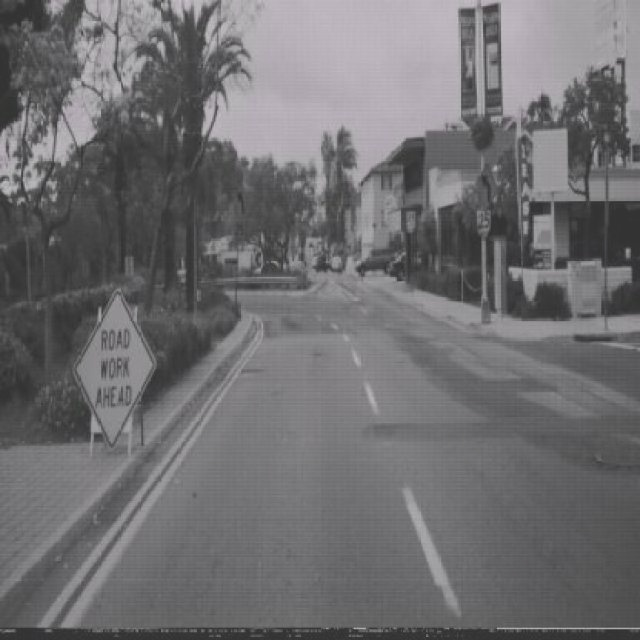curveLeft: (474, 160, 499, 212), (231, 180, 249, 223)
zoneAhead25: (406, 210, 416, 232)
